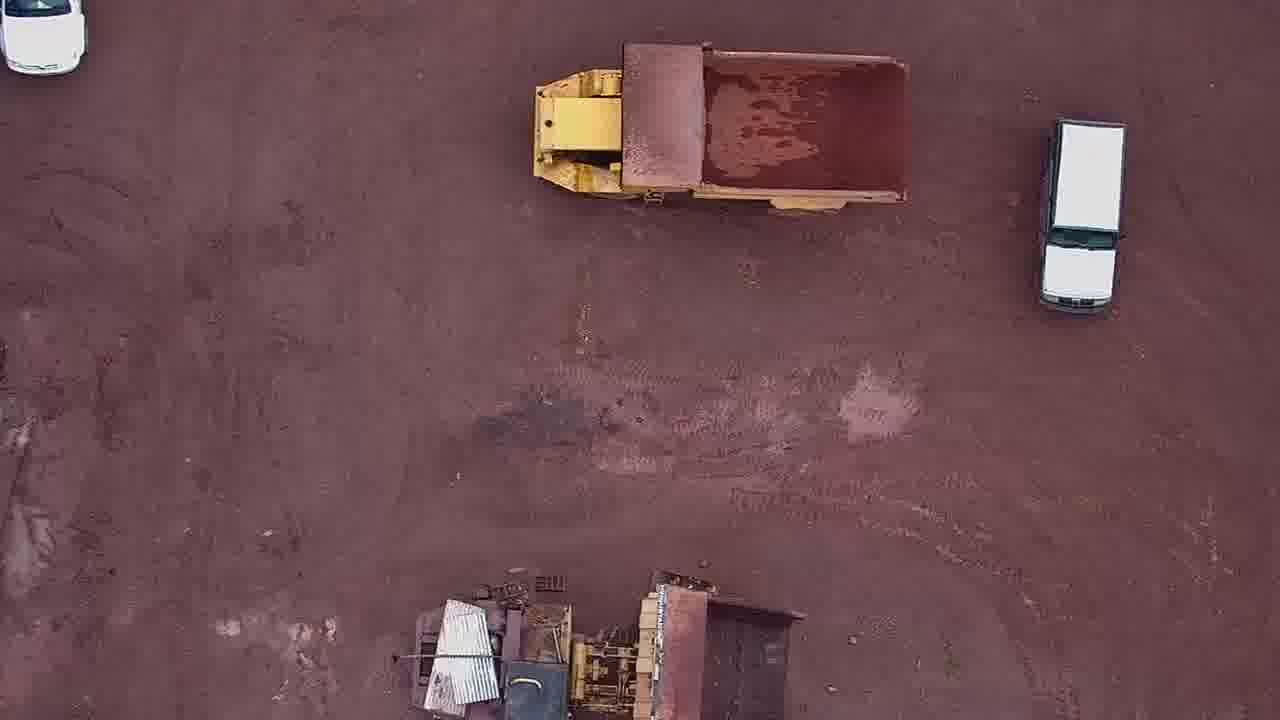heavy_motor_vehicle: (532, 40, 917, 220), (398, 564, 811, 720)
light_motor_vehicle: (1036, 115, 1129, 317)
